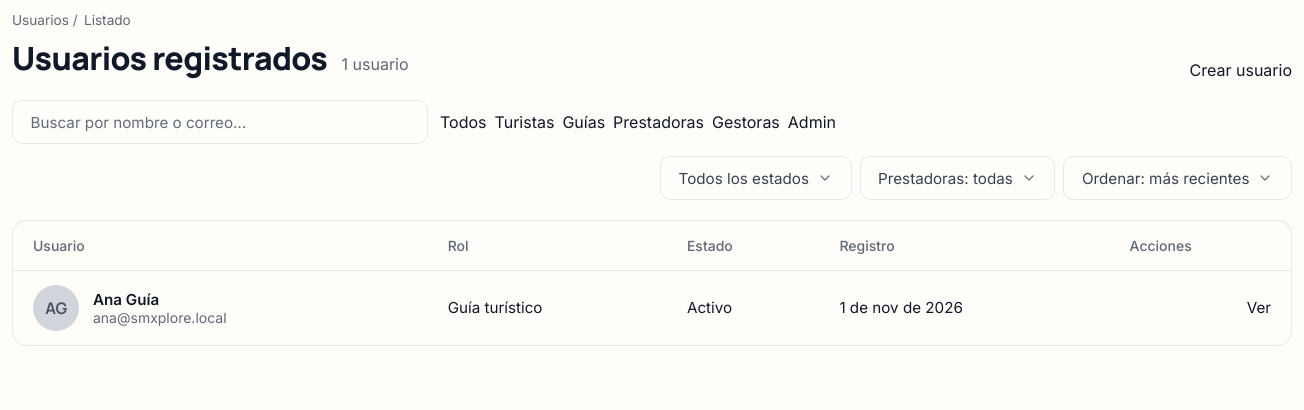
Test: UsersPage › filtra por estado con un combobox accesible y sin selects nativos
Expected: the text "Ana Guía" is shown, [93,290,159,309]
What coordinates should you click on to do the following:
click the dropdown named "Filtrar por estado de la cuenta"
I would click on:
 (756, 178)
Its box is [660,156,852,200].
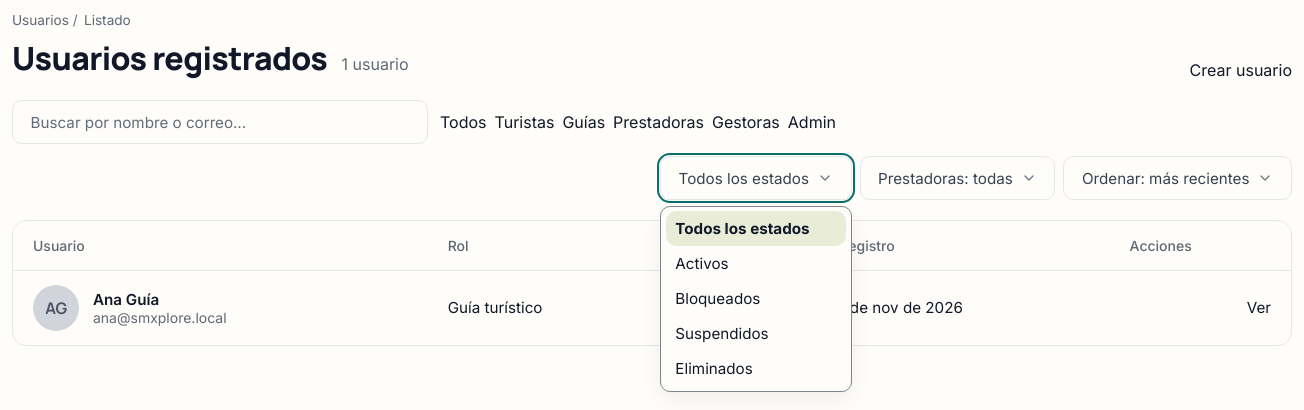
What coordinates should you click on to do the following:
click the option "Bloqueados"
I would click on:
 (718, 299)
Its box is [675,289,760,308].
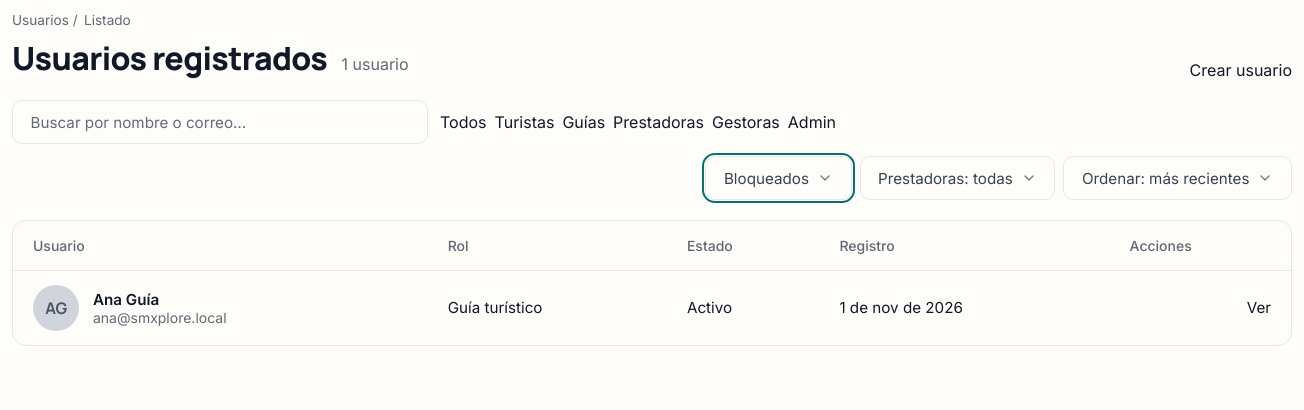
Expected: the dropdown named "Filtrar por estado de la cuenta" reads "Bloqueados", [705,156,852,200]
